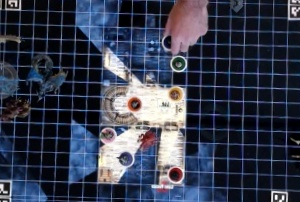blue: (160, 33, 179, 51)
green: (167, 53, 188, 72)
orange: (123, 95, 143, 111)
pink: (101, 124, 118, 143)
red: (168, 163, 185, 184)
violet: (118, 149, 136, 168)
yellow: (166, 83, 185, 102)
